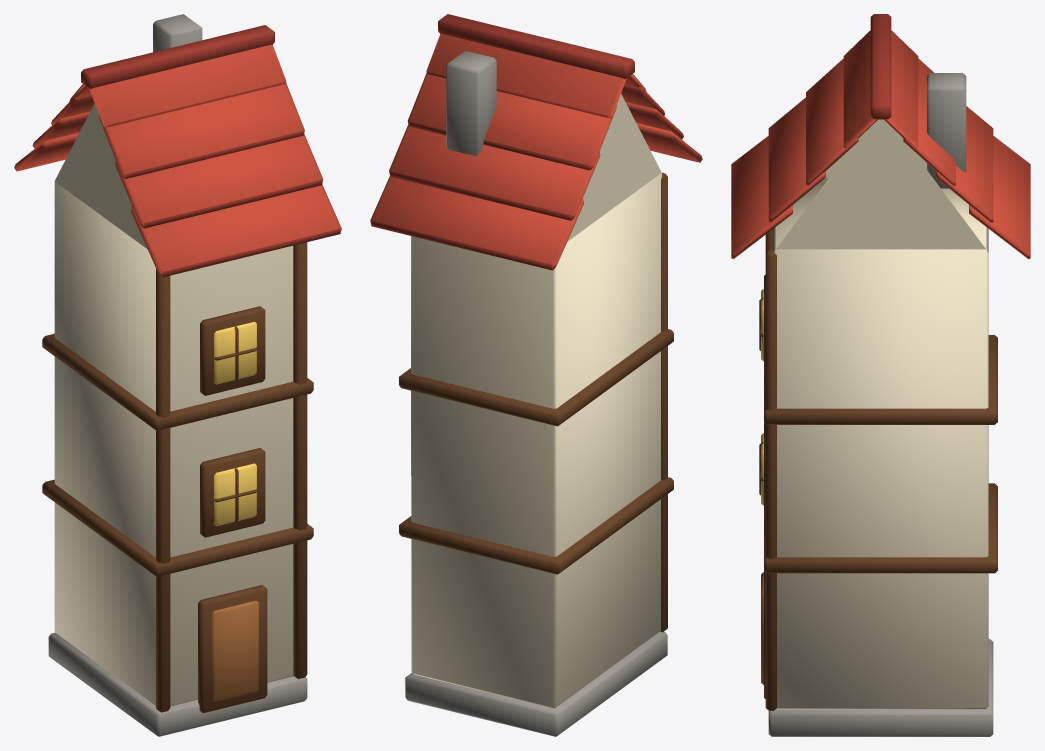
File: B_MedNarrowTownhouse.fbx
3 views of the same model, side by side, from view 1: azimuth 30°, elevation 25°; view 2: azimuth 150°, elevation 25°; view 3: azimuth 270°, elevation 25° (orthographic).
Visible parts, largest first — view 1: M_NarrowTownhouse; view 2: M_NarrowTownhouse; view 3: M_NarrowTownhouse.
Boxes of the visible parts, x1,y1,x2,y2 form: M_NarrowTownhouse: (14,14,341,736); M_NarrowTownhouse: (370,14,702,736); M_NarrowTownhouse: (731,14,1030,736).
Size of the model in its own units: 2.35 by 7.56 by 3.2.
1 material, 1 textured.
